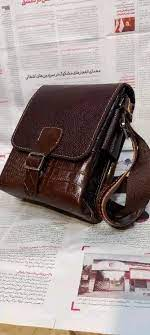Bag: (1, 81, 150, 233)
